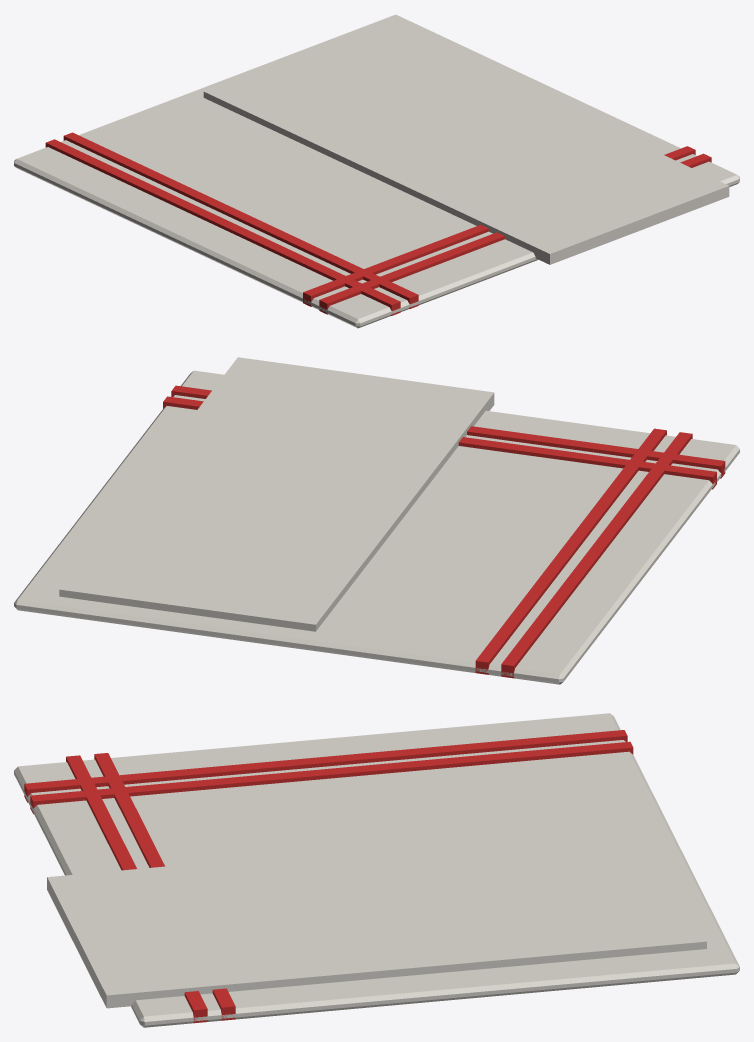
File: napkin.glb
The picture shows the model from 3 angles, top to bottom: view 1: azimuth 30°, elevation 25°; view 2: azimuth 150°, elevation 25°; view 3: azimuth 270°, elevation 25°; orthographic projection. The views are drawn at different scales.
Visible parts, largest first — view 1: napkin; view 2: napkin; view 3: napkin.
Part boxes in pixels (left/top/right/bottom): napkin: left=14, top=14, right=739, bottom=328; napkin: left=14, top=357, right=739, bottom=684; napkin: left=14, top=713, right=739, bottom=1027.
Bounding box in the file's own units: 0.355 × 0.01 × 0.355.
